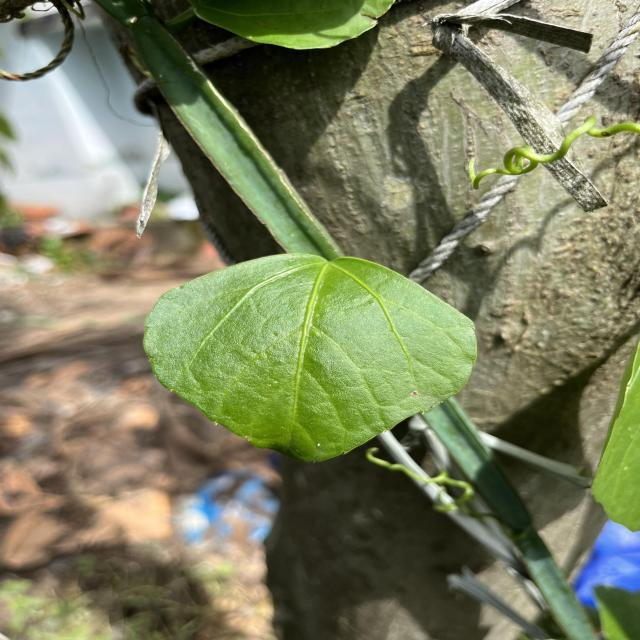Cissus quadrangularis: (140, 250, 478, 465)
